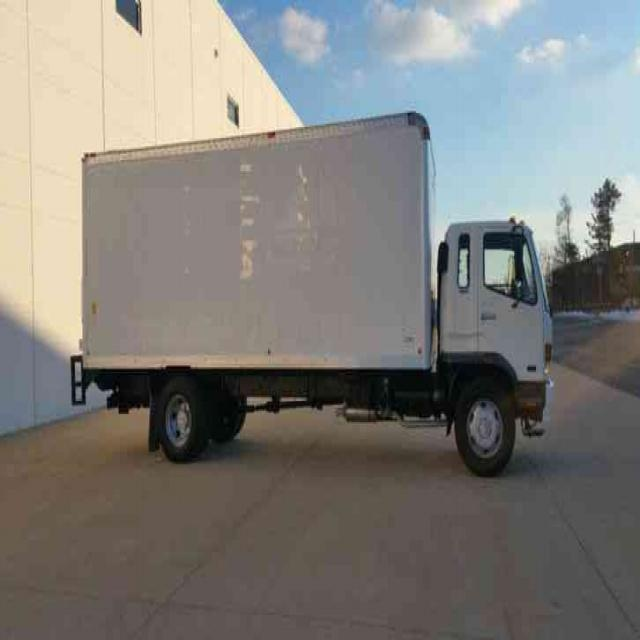Truck: (70, 110, 556, 468)
